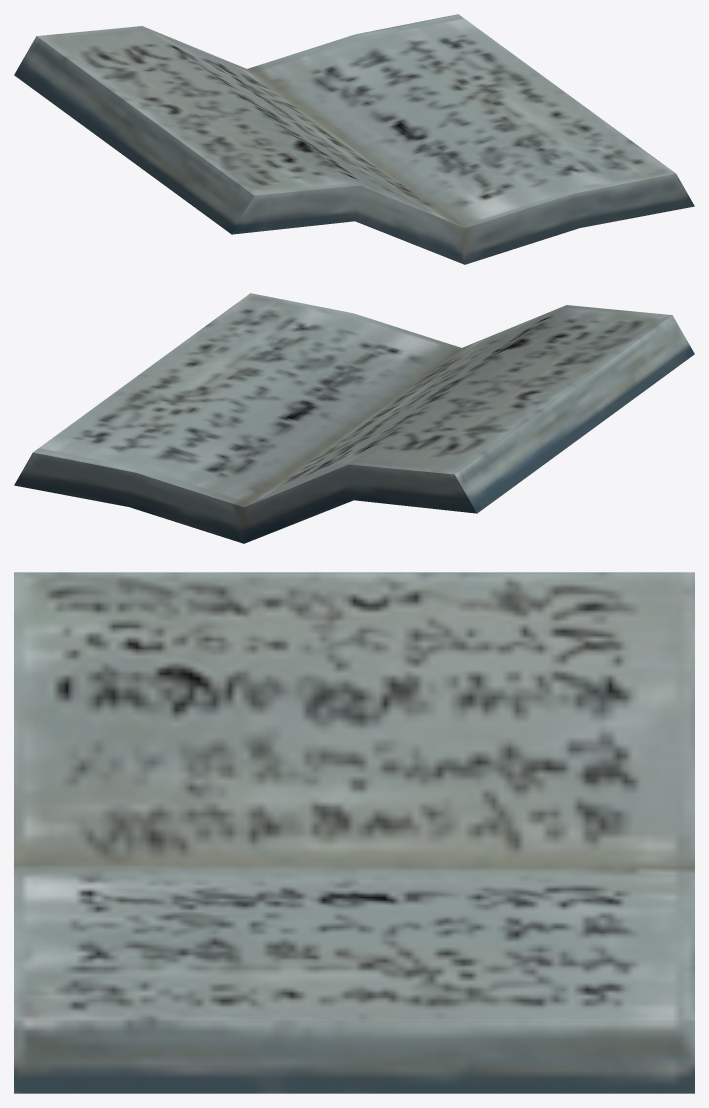
File: Stage_DiXiaCheng_Shu02.FBX
The picture shows the model from 3 angles, top to bottom: view 1: azimuth 30°, elevation 25°; view 2: azimuth 150°, elevation 25°; view 3: azimuth 270°, elevation 25°; orthographic projection. The views are drawn at different scales.
Parts seen in each view (by area): view 1: Stage_DiXiaCheng_Shu02; view 2: Stage_DiXiaCheng_Shu02; view 3: Stage_DiXiaCheng_Shu02.
Boxes of the visible parts, bbox=[...] form: Stage_DiXiaCheng_Shu02: bbox=[14, 14, 694, 264]; Stage_DiXiaCheng_Shu02: bbox=[14, 293, 694, 543]; Stage_DiXiaCheng_Shu02: bbox=[14, 572, 694, 1093].
Size of the model in its own units: 85.6 by 21.33 by 69.72.
